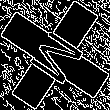M_SE: (21, 22, 89, 88)
